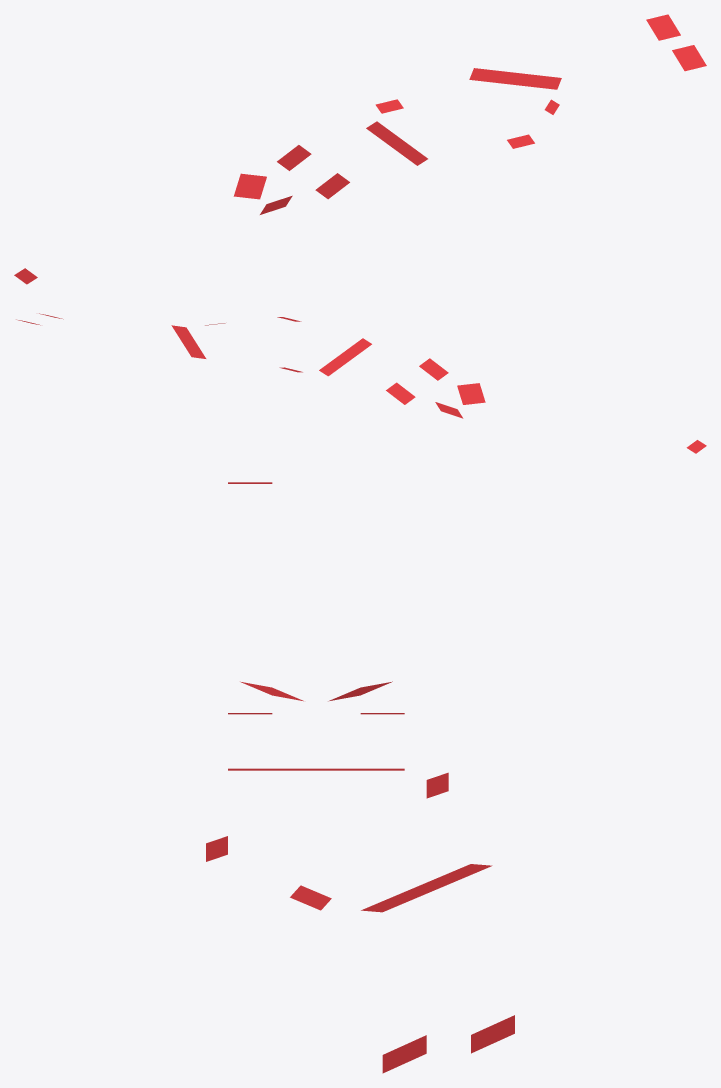
File: Encounter_002_Stairs.fbx
3 views of the same model, one above another, from view 1: azimuth 30°, elevation 25°; view 2: azimuth 150°, elevation 25°; view 3: azimuth 270°, elevation 25° (orthographic). The views are drawn at different scales.
Parts seen in each view (by area): view 1: Encounter_002_Stairs; view 2: Encounter_002_Stairs; view 3: Encounter_002_Stairs.
Boxes of the visible parts, x1=… form: Encounter_002_Stairs: x1=14, y1=14, x2=706, y2=284; Encounter_002_Stairs: x1=16, y1=313, x2=706, y2=453; Encounter_002_Stairs: x1=206, y1=482, x2=514, y2=1073.
Bounding box in the file's own units: 13000 × 550 × 2800.
